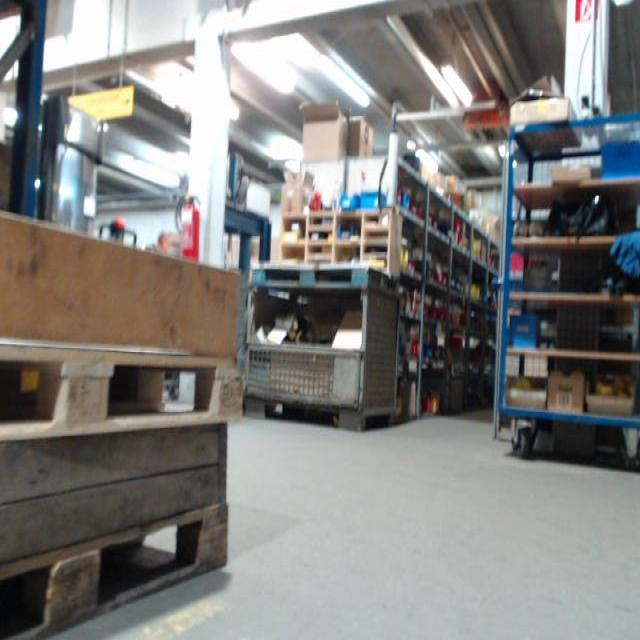pallet: (4, 494, 231, 638), (2, 324, 245, 444)
small_load_carrier: (602, 141, 639, 182), (508, 311, 540, 347)
stillage: (240, 279, 402, 431)
